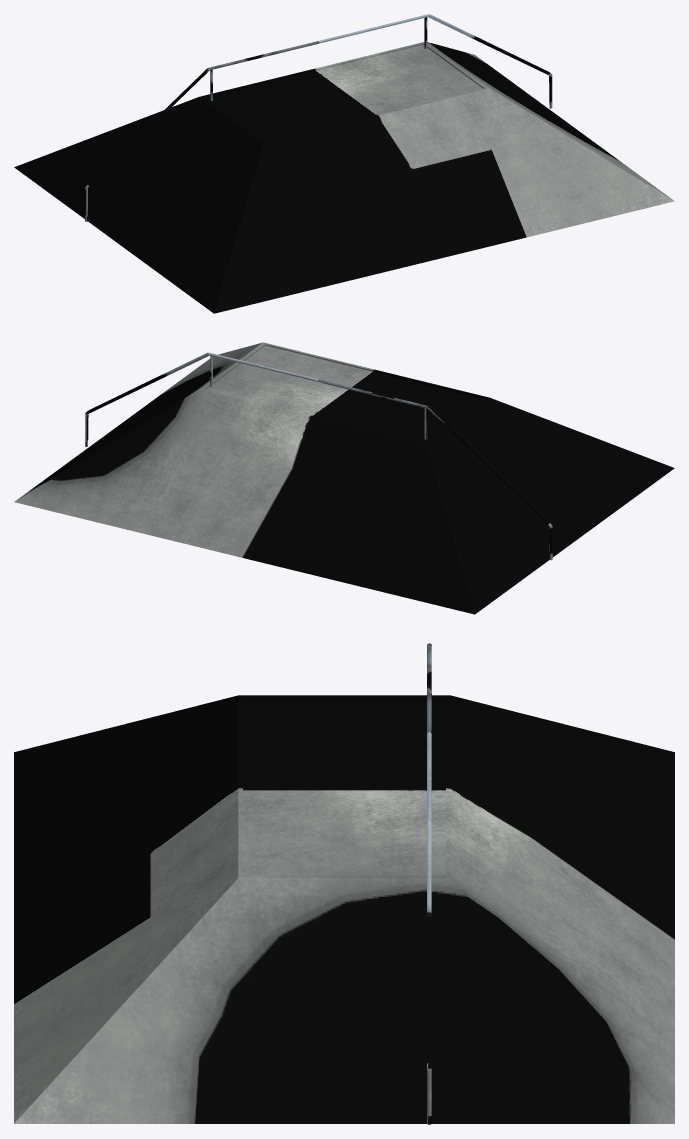
File: Ramp02.fbx
3 views of the same model, one above another, from view 1: azimuth 30°, elevation 25°; view 2: azimuth 150°, elevation 25°; view 3: azimuth 270°, elevation 25° (orthographic). The views are drawn at different scales.
Visible parts, largest first — view 1: Ramp02; view 2: Ramp02; view 3: Ramp02.
Part boxes in pixels (box(x1,y1,x2,y2)): Ramp02: box(14, 14, 674, 313); Ramp02: box(14, 342, 674, 614); Ramp02: box(14, 643, 674, 1124).
Size of the model in its own units: 16.51 by 4.21 by 12.23.
